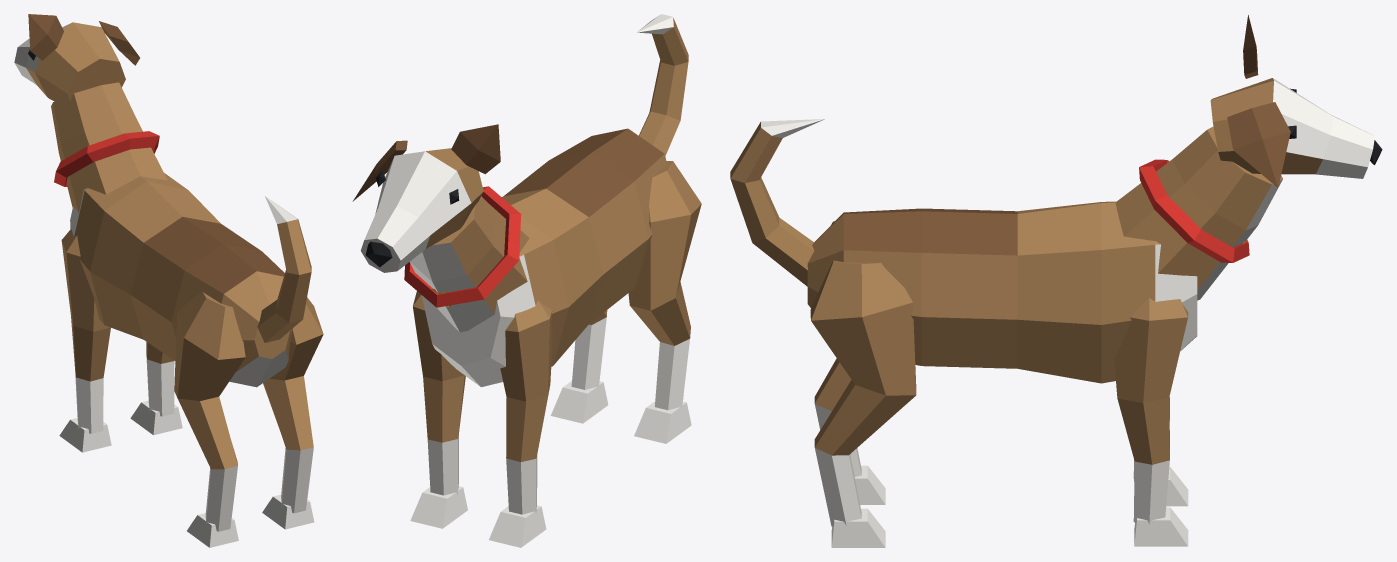
The model's file is dog.glb.
The picture shows the model from 3 angles, left to right: view 1: azimuth 30°, elevation 25°; view 2: azimuth 150°, elevation 25°; view 3: azimuth 270°, elevation 25°; orthographic projection. The views are drawn at different scales.
Visible parts, largest first — view 1: Body, Head, Leg_RL, Leg_RR, Leg_FL, Tail, Leg_FR; view 2: Body, Head, Leg_RL, Leg_FL, Leg_FR, Tail, Leg_RR; view 3: Body, Head, Leg_RR, Leg_FR, Tail, Leg_RL.
Boxes of the visible parts, bbox=[...] form: Body: bbox=[70, 173, 292, 387]; Head: bbox=[14, 14, 167, 212]; Leg_RL: bbox=[174, 292, 245, 547]; Leg_RR: bbox=[262, 297, 323, 529]; Leg_FL: bbox=[59, 229, 111, 452]; Tail: bbox=[257, 196, 311, 342]; Leg_FR: bbox=[130, 342, 182, 435]; Body: bbox=[422, 128, 667, 387]; Head: bbox=[352, 124, 529, 332]; Leg_RL: bbox=[628, 161, 701, 443]; Leg_FL: bbox=[489, 300, 552, 547]; Leg_FR: bbox=[410, 291, 467, 528]; Tail: bbox=[637, 14, 688, 155]; Leg_RR: bbox=[550, 310, 608, 423]; Body: bbox=[807, 201, 1197, 383]; Head: bbox=[1115, 15, 1382, 300]; Leg_RR: bbox=[810, 260, 916, 547]; Leg_FR: bbox=[1114, 297, 1188, 546]; Tail: bbox=[730, 119, 824, 286]; Leg_RL: bbox=[814, 221, 885, 504].
Size of the model in its own units: 0.2929 by 0.87 by 1.09.
